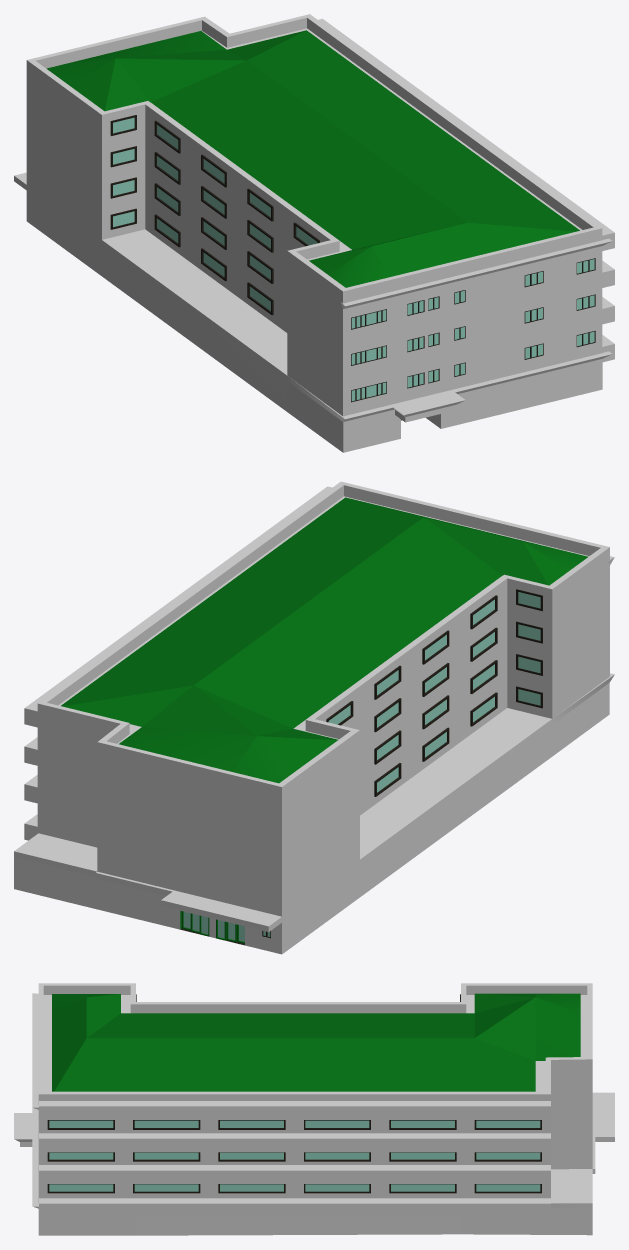
The model's file is Gokongwei Hall.fbx.
The picture shows the model from 3 angles, top to bottom: view 1: azimuth 30°, elevation 25°; view 2: azimuth 150°, elevation 25°; view 3: azimuth 270°, elevation 25°; orthographic projection. The views are drawn at different scales.
Parts seen in each view (by area): view 1: Gokongwei Hall; view 2: Gokongwei Hall; view 3: Gokongwei Hall.
Boxes of the visible parts, x1,y1,x2,y2 form: Gokongwei Hall: (14, 14, 614, 452); Gokongwei Hall: (14, 481, 614, 954); Gokongwei Hall: (14, 983, 614, 1235).
Size of the model in its own units: 70.09 by 42.37 by 152.
